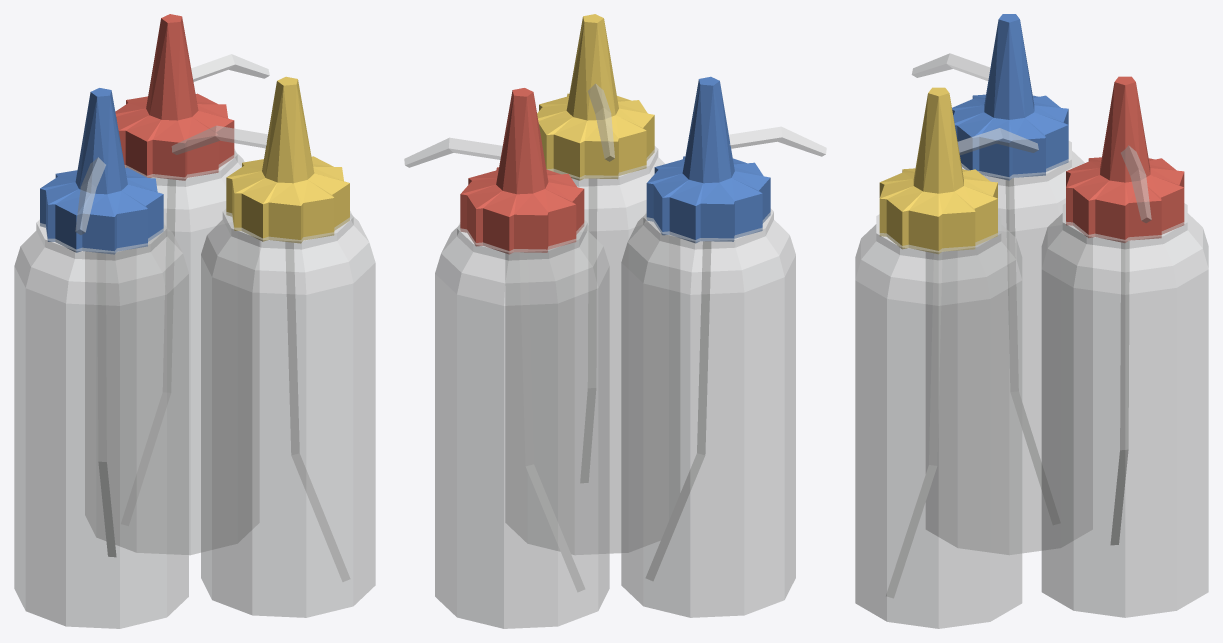
The model's file is wash-bottle-set-88f3aa.glb.
3 views of the same model, side by side, from view 1: azimuth 30°, elevation 25°; view 2: azimuth 150°, elevation 25°; view 3: azimuth 270°, elevation 25° (orthographic).
Visible parts, largest first — view 1: bottle-front-plastic, bottle-left-plastic, bottle-right-plastic, bottle-front-cap, bottle-left-cap, bottle-right-cap; view 2: bottle-right-plastic, bottle-left-plastic, bottle-front-plastic, bottle-left-cap, bottle-right-cap, bottle-front-cap; view 3: bottle-front-plastic, bottle-right-plastic, bottle-left-plastic, bottle-front-cap, bottle-right-cap, bottle-left-cap.
Part boxes in pixels (x1=…): bottle-front-plastic: x1=171, y1=125, x2=375, y2=617; bottle-left-plastic: x1=14, y1=157, x2=188, y2=628; bottle-right-plastic: x1=85, y1=54, x2=269, y2=555; bottle-front-cap: x1=226, y1=76, x2=350, y2=581; bottle-left-cap: x1=40, y1=88, x2=163, y2=557; bottle-right-cap: x1=115, y1=14, x2=234, y2=525; bottle-right-plastic: x1=404, y1=137, x2=609, y2=628; bottle-left-plastic: x1=621, y1=126, x2=826, y2=617; bottle-front-plastic: x1=505, y1=83, x2=679, y2=554; bottle-left-cap: x1=645, y1=76, x2=770, y2=580; bottle-right-cap: x1=460, y1=88, x2=584, y2=592; bottle-front-cap: x1=537, y1=14, x2=654, y2=482; bottle-front-plastic: x1=855, y1=128, x2=1038, y2=628; bottle-right-plastic: x1=1041, y1=145, x2=1208, y2=617; bottle-left-plastic: x1=912, y1=53, x2=1092, y2=554; bottle-front-cap: x1=879, y1=87, x2=997, y2=598; bottle-right-cap: x1=1066, y1=76, x2=1184, y2=545; bottle-left-cap: x1=952, y1=14, x2=1068, y2=524.
Bounding box in the file's own units: 0.1434 × 0.2199 × 0.1408.
